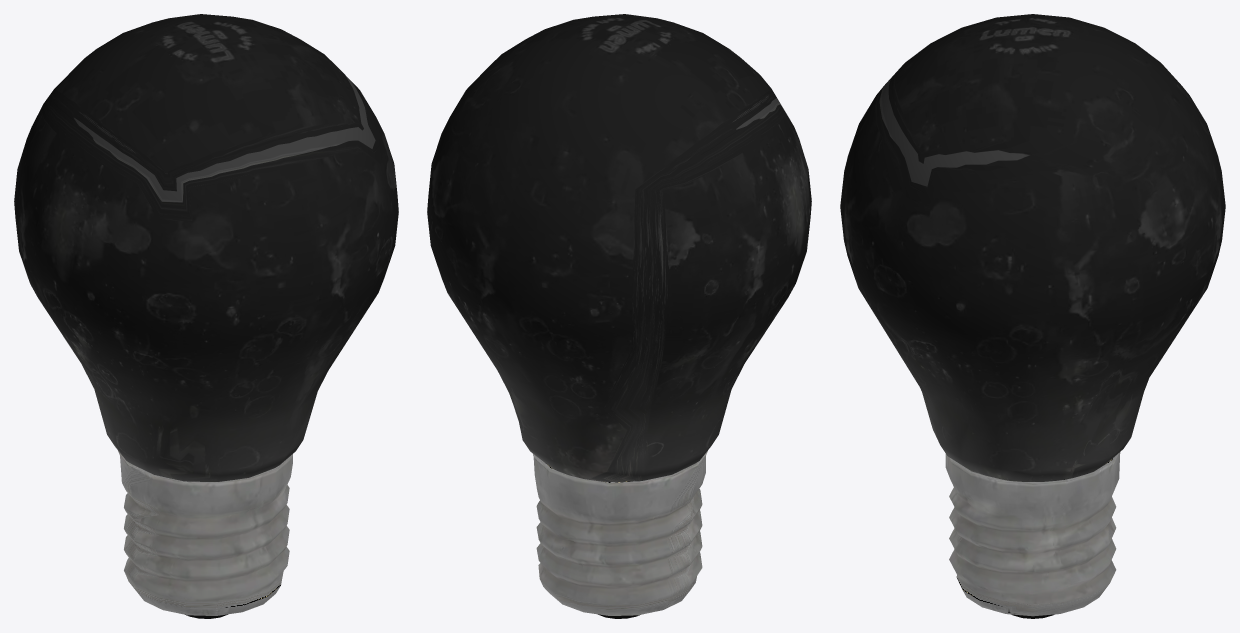
File: lightbulb_01.glb
3 views of the same model, side by side, from view 1: azimuth 30°, elevation 25°; view 2: azimuth 150°, elevation 25°; view 3: azimuth 270°, elevation 25° (orthographic).
Visible parts, largest first — view 1: lightbulb_01; view 2: lightbulb_01; view 3: lightbulb_01.
Boxes of the visible parts, x1=… form: lightbulb_01: x1=14, y1=14, x2=398, y2=618; lightbulb_01: x1=427, y1=14, x2=811, y2=618; lightbulb_01: x1=840, y1=14, x2=1225, y2=618.
Size of the model in its own units: 0.06 by 0.1003 by 0.06.
2 materials, 2 textured.
